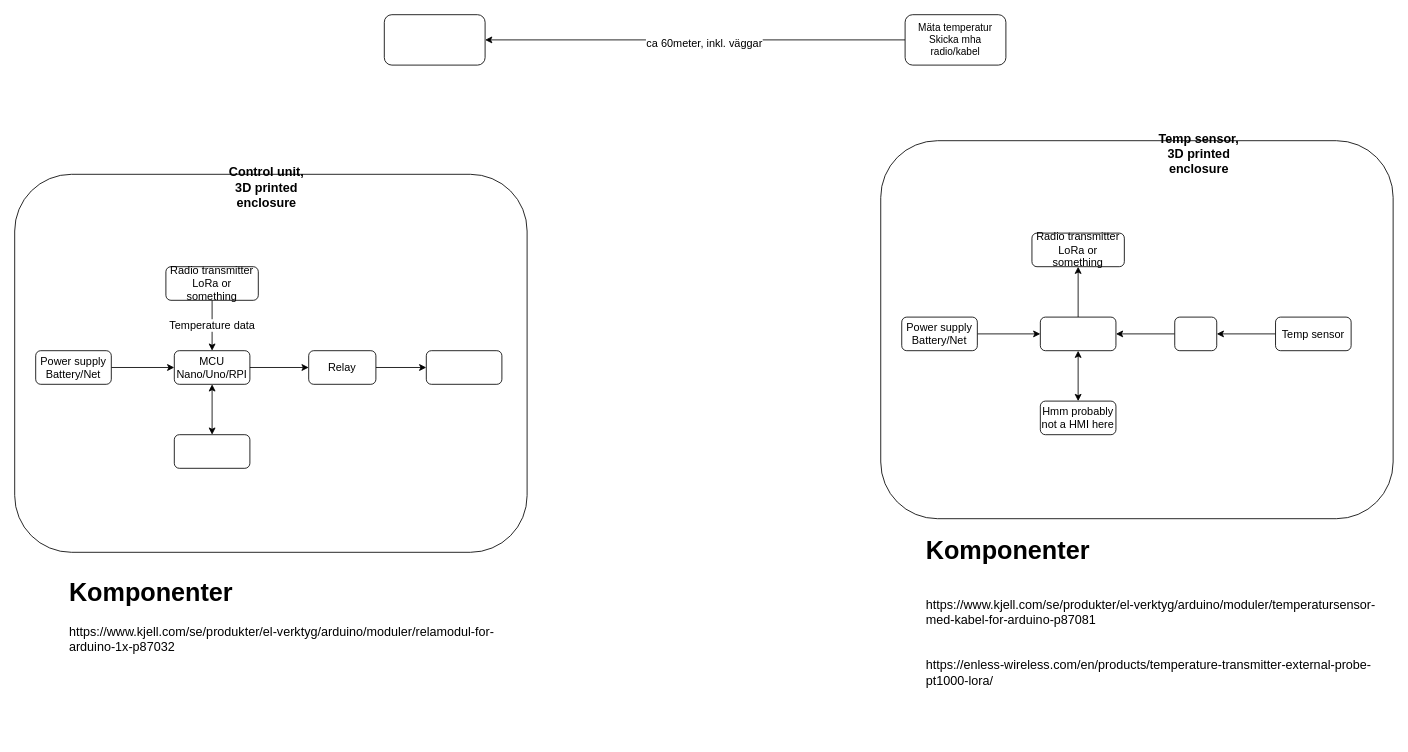
Some shapes in this 1408 by 752 pixel diagram are drawn without their labels. Here are the shapes that lost their labels. From the top down, the centre of each, then its label:
the point at 434,39: Pannrummet Styra nätspänning ON/OFF för pumpen
the point at 1078,333: MCU Uno/Nano/RPI
the point at 1195,333: ADC
the point at 463,367: Pump
the point at 211,451: HMI, settings etc
